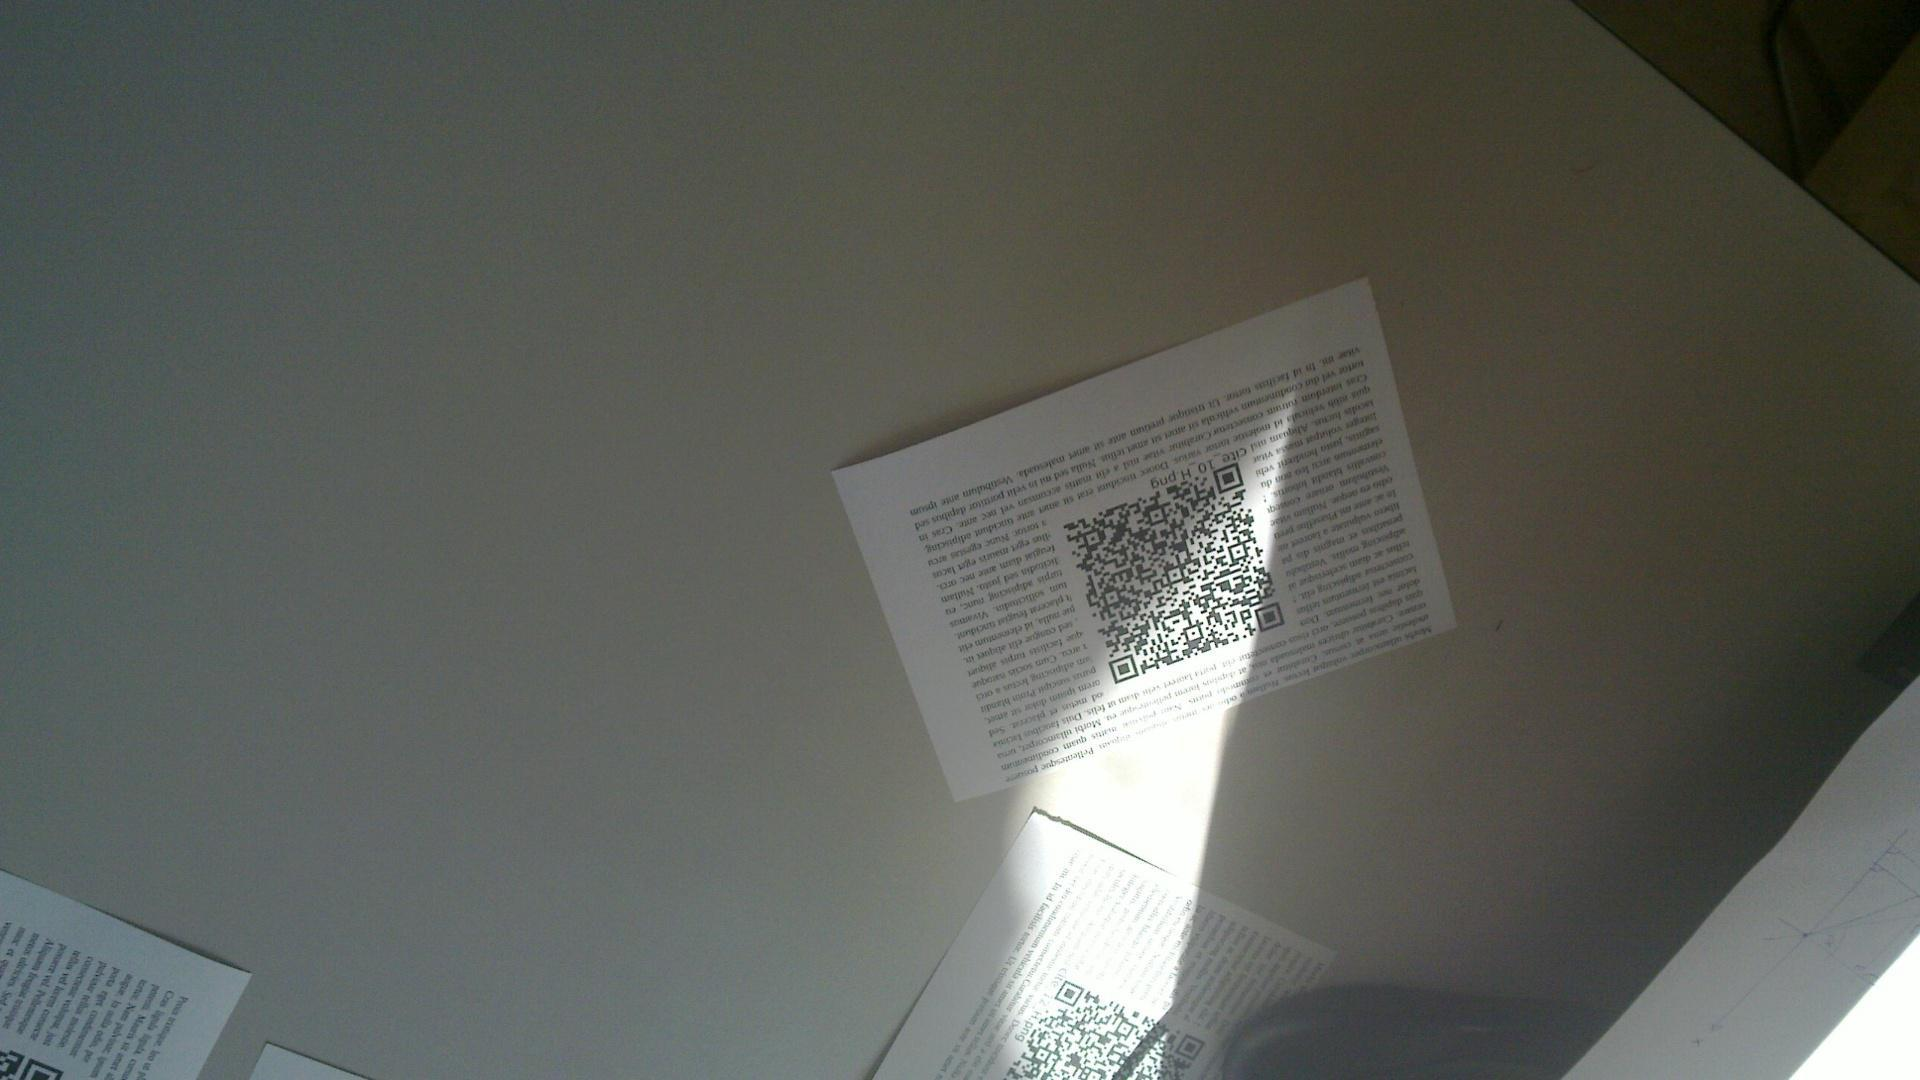Finder pattern: (1249, 599, 1286, 636), (1207, 458, 1245, 493), (1106, 650, 1139, 688)
